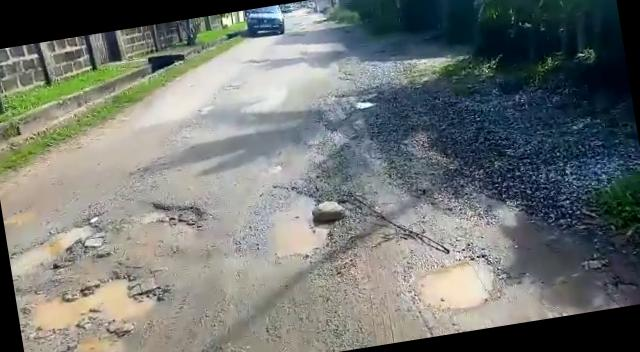pothole: (19, 266, 168, 340), (234, 176, 334, 265), (7, 213, 112, 276), (407, 254, 502, 318), (132, 192, 206, 241)
